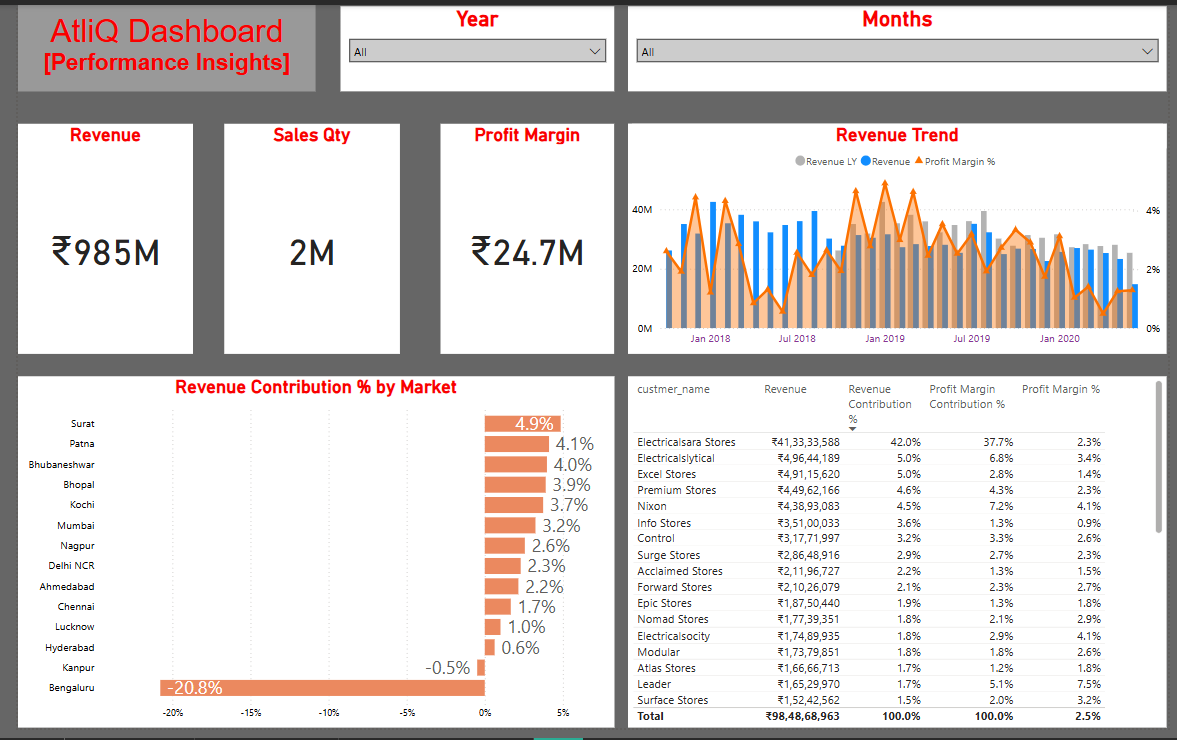

What the dashboard file says about the page in this screenshot:
{"tool":"powerbi","page":{"name":"Performance Insights","canvas":[1350,850],"ordinal":2},"visuals":[{"type":"card","title":"Revenue","fields":{"Values":["BaseMeasures (2).Revenue"]},"box":[0,139.5,205.6,270.2],"z":0},{"type":"card","title":"Sales Qty","fields":{"Values":["BaseMeasures (2).Sales Qty"]},"box":[242.3,139.5,206,270.2],"z":1000},{"type":"slicer","title":"Year","fields":{"Values":["sales date.year"]},"box":[378.9,1.5,321.6,99.9],"z":2000},{"type":"slicer","title":"Months","fields":{"Values":["sales date.cy_date"]},"box":[716.7,1.5,633,99.9],"z":3000},{"type":"tableEx","title":"Top 5 Customers","fields":{"Values":["sales customers.custmer_name","BaseMeasures (2).Revenue","BaseMeasures (2).Revenue Contribution %","BaseMeasures (2).Profit Margin Contribution %","BaseMeasures (2).Profit Margin %"]},"box":[716.7,436.2,633,412.7],"z":4000},{"type":"lineClusteredColumnComboChart","title":"Revenue Trend","fields":{"Category":["sales date.cy_date"],"Y":["BaseMeasures (2).Revenue LY","BaseMeasures (2).Revenue"],"Y2":["BaseMeasures (2).Profit Margin %"]},"box":[716.7,139.5,633,270.2],"z":5000},{"type":"card","title":"Profit Margin","fields":{"Values":["BaseMeasures (2).Total Profit Margin"]},"box":[496.4,139.5,204.1,270.2],"z":6000},{"type":"barChart","title":"Revenue Contribution % by Market","fields":{"Y":["BaseMeasures (2).Profit Margin %"],"Category":["sales markets.zone","sales markets.markets_name","sales customers.custmer_name","sales products.product_code"]},"box":[0,436.2,700.5,412.7],"z":7000},{"type":"textbox","box":[0,0,349.5,101.3],"z":7001}]}

Visuals, with their boxes in screenshot pixels (x1, y1, x2, y2), scaled from the page's 1350x850 canvas onto the 1177x740 screenshot:
"Revenue" card: (0,121,179,357)
"Sales Qty" card: (211,121,391,357)
"Year" slicer: (330,1,611,88)
"Months" slicer: (625,1,1176,88)
"Top 5 Customers" tableEx: (625,380,1176,739)
"Revenue Trend" lineClusteredColumnComboChart: (625,121,1176,357)
"Profit Margin" card: (433,121,611,357)
"Revenue Contribution % by Market" barChart: (0,380,611,739)
textbox: (0,0,305,88)
